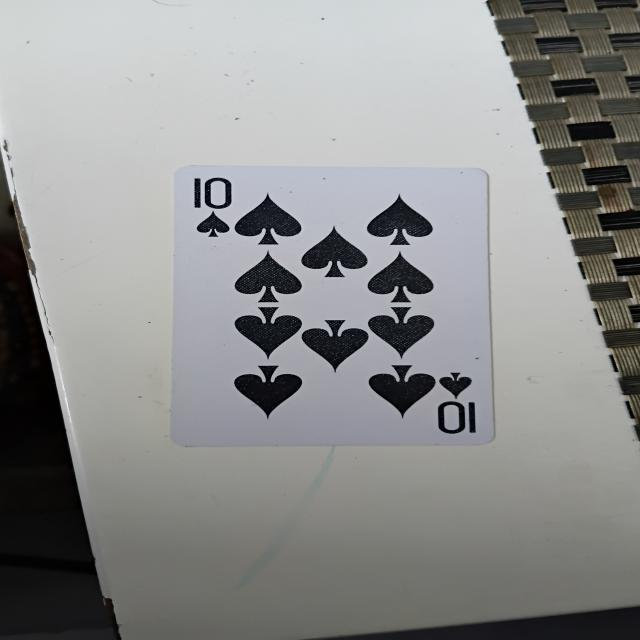10S: (190, 166, 490, 449)
